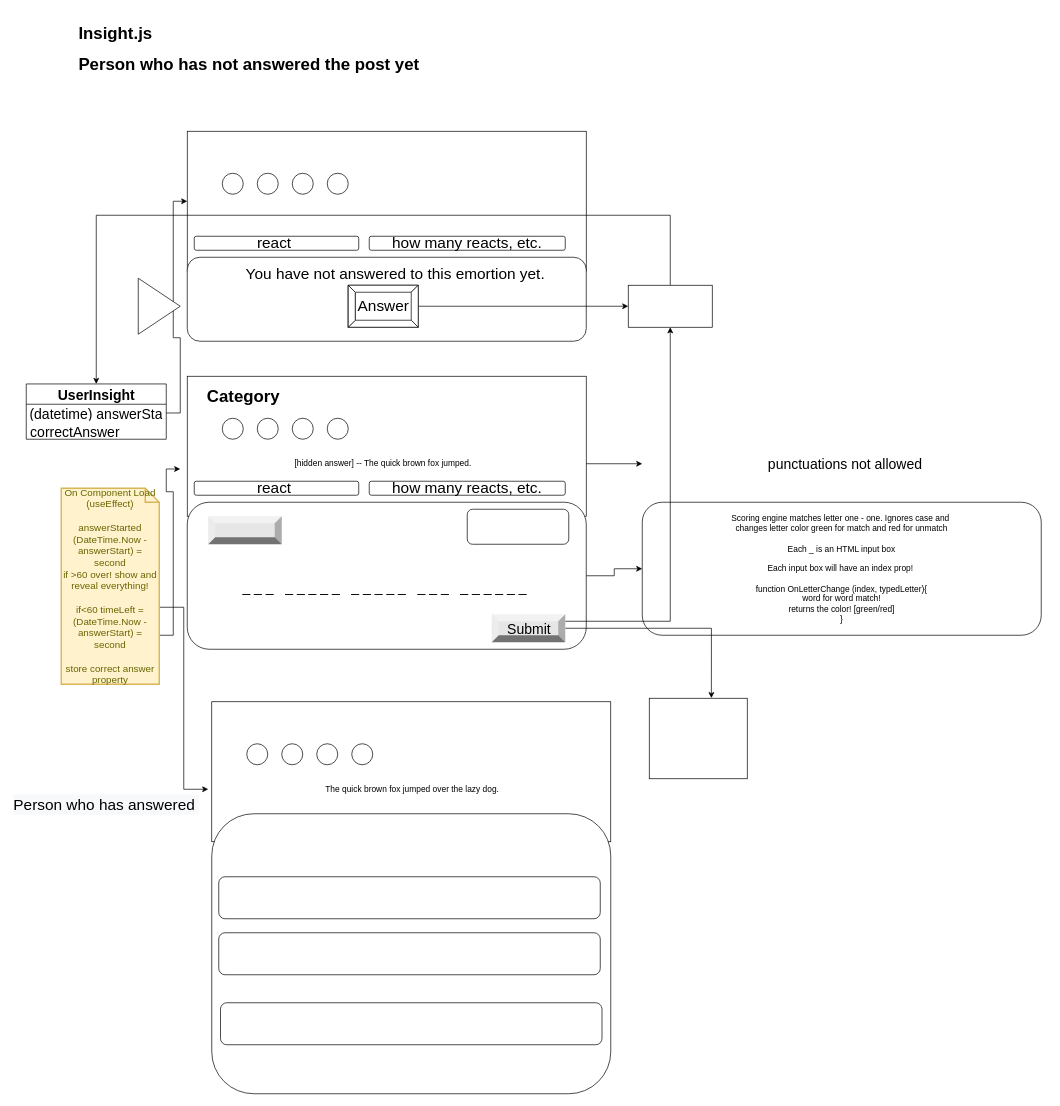
Image size: 1060x1106. Some labels were removed from this diagram. Each missing label, with the centre of its shape:
"Avail Hint" belongs at (244,530).
"Database - user has started the answer. timestamp user start" belongs at (670,306).
"if null" belongs at (159,306).
"send answer to backend! backend will score." belongs at (698,738).
"Time Left 00:59" belongs at (518,526).
